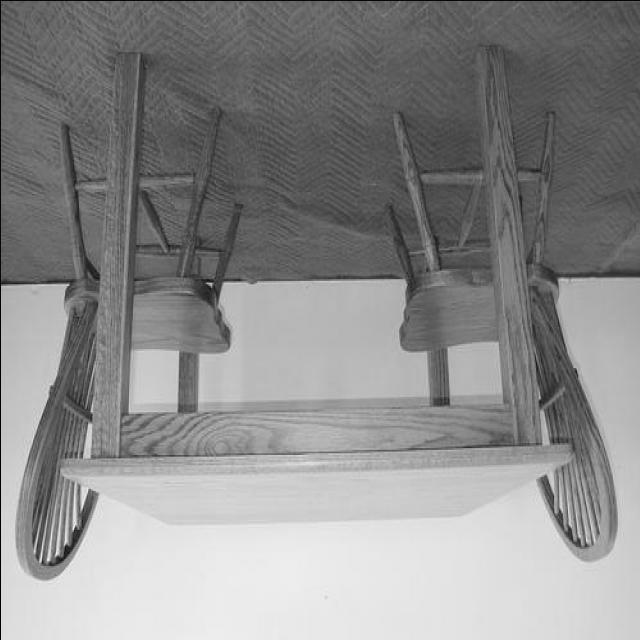chair: (386, 105, 620, 562), (14, 111, 242, 578)
table: (62, 47, 574, 526)
